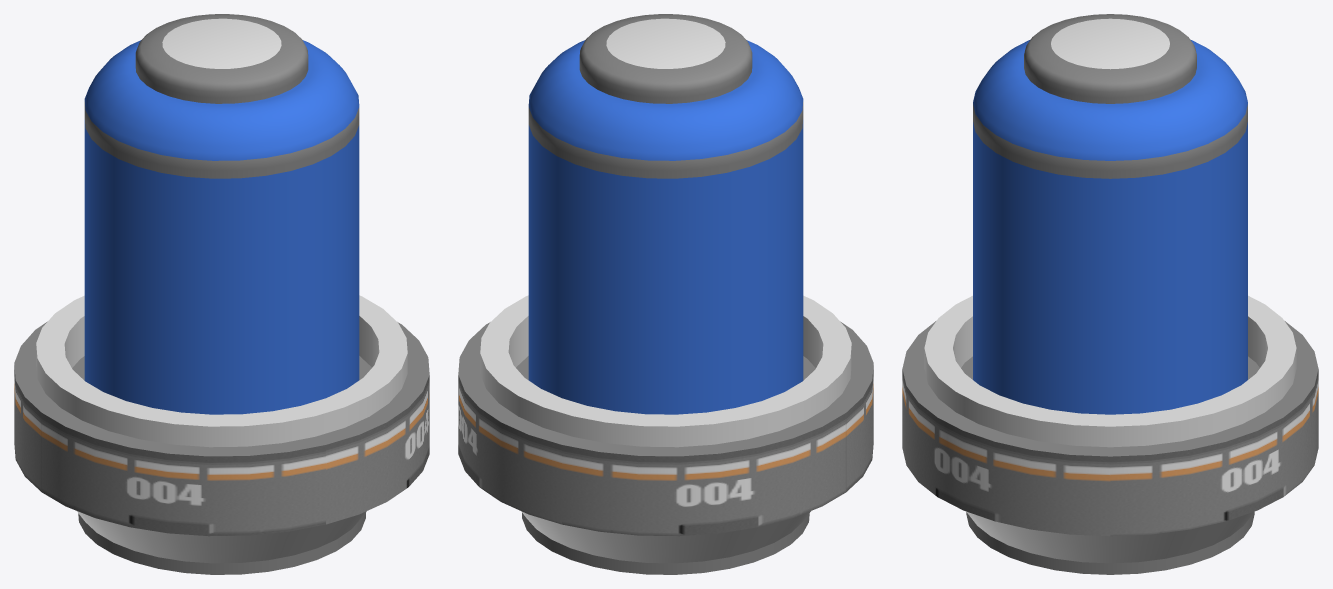
File: LifeSupport.fbx
3 renders of one model, left to right at view 1: azimuth 30°, elevation 25°; view 2: azimuth 150°, elevation 25°; view 3: azimuth 270°, elevation 25°, orthographic.
Visible parts, largest first — view 1: Cylinder.002; view 2: Cylinder.002; view 3: Cylinder.002.
Boxes of the visible parts, x1,y1,x2,y2 form: Cylinder.002: (14, 14, 429, 574); Cylinder.002: (458, 14, 873, 574); Cylinder.002: (902, 14, 1318, 574).
Bounding box in the file's own units: 388 × 388 × 493.
